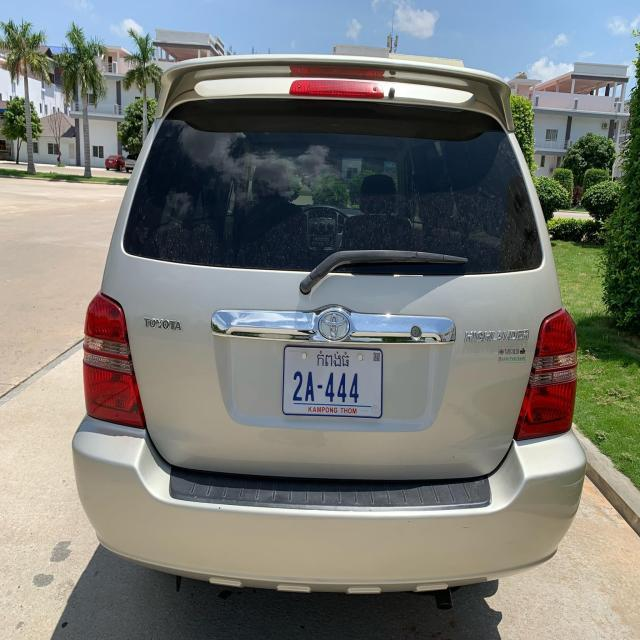Kampong_Thom: (316, 351, 349, 369)
